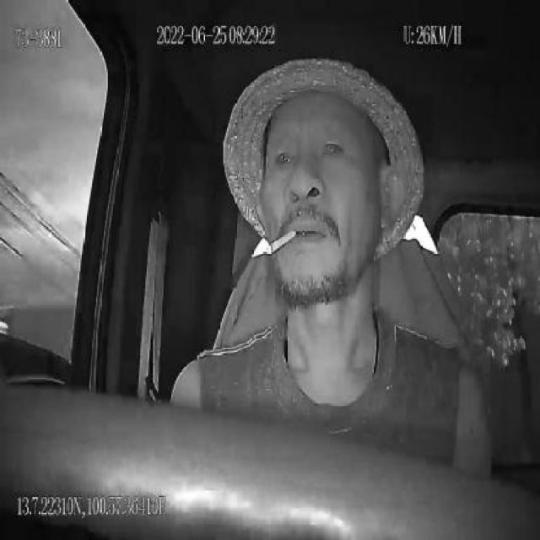smoking: (268, 228, 296, 257)
